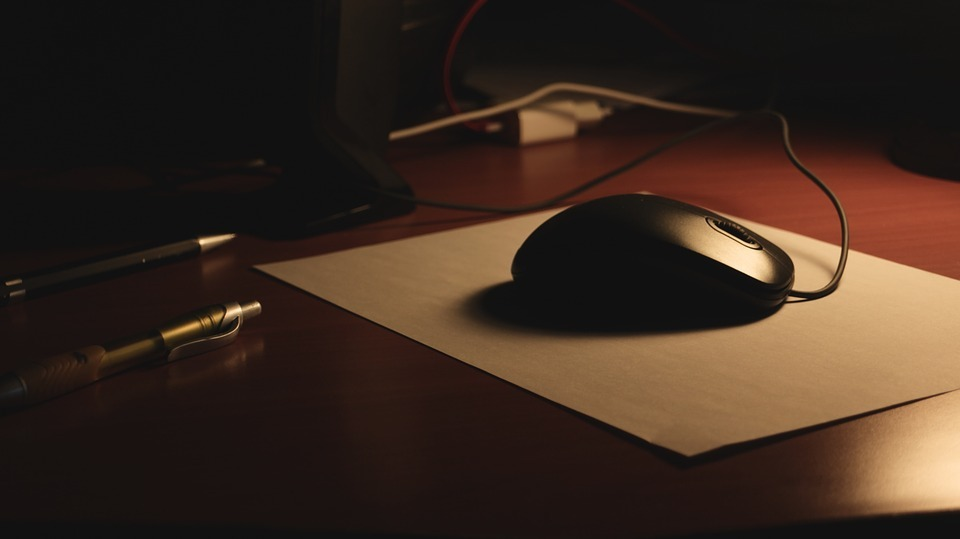mouse: (490, 184, 800, 354)
